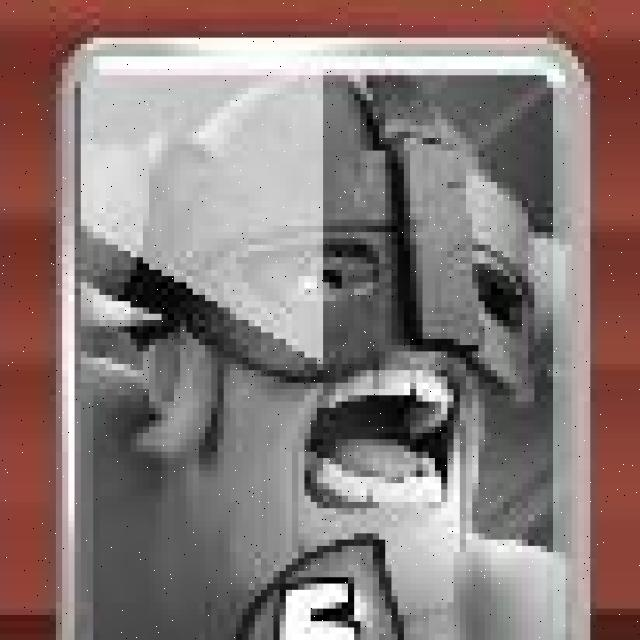Elite_Barbarians: (65, 39, 593, 640)
